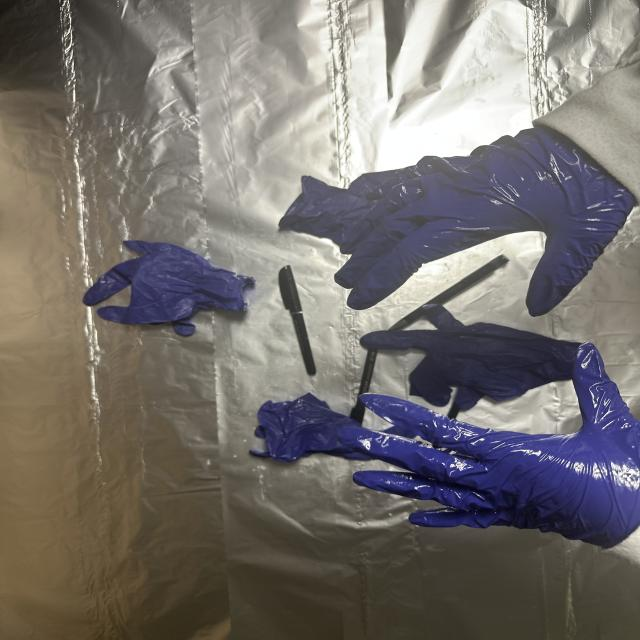gloves_contaminated: (348, 343, 640, 548), (335, 127, 636, 316)
